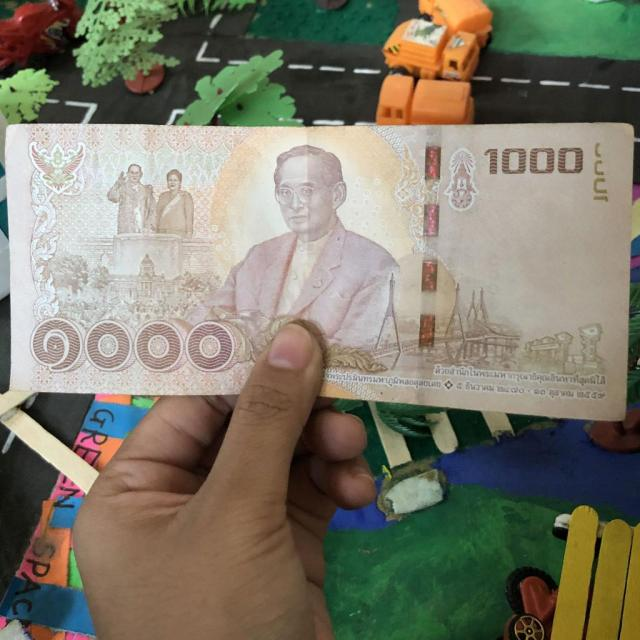THAI1000: (8, 124, 633, 420)
